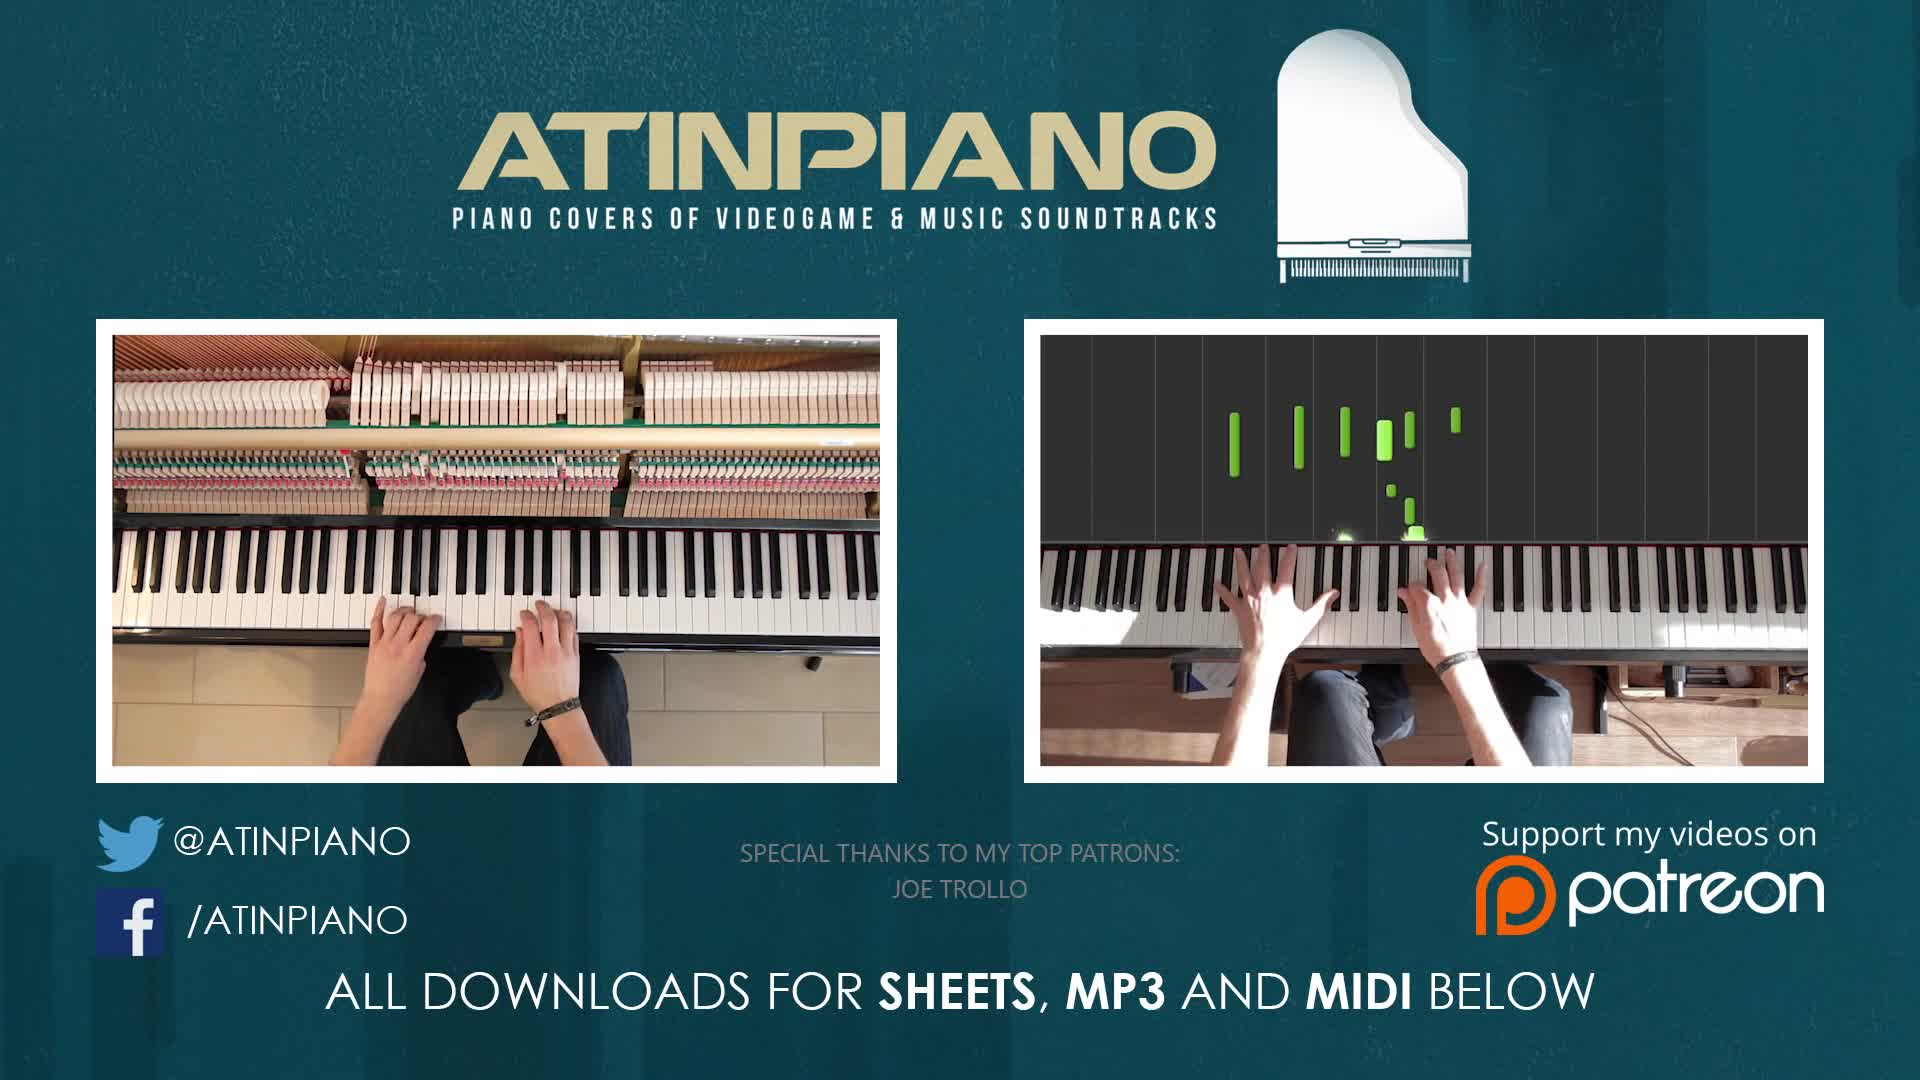left: (1213, 539, 1341, 655), (361, 592, 448, 699)
right: (1396, 537, 1490, 659), (510, 595, 584, 707)
